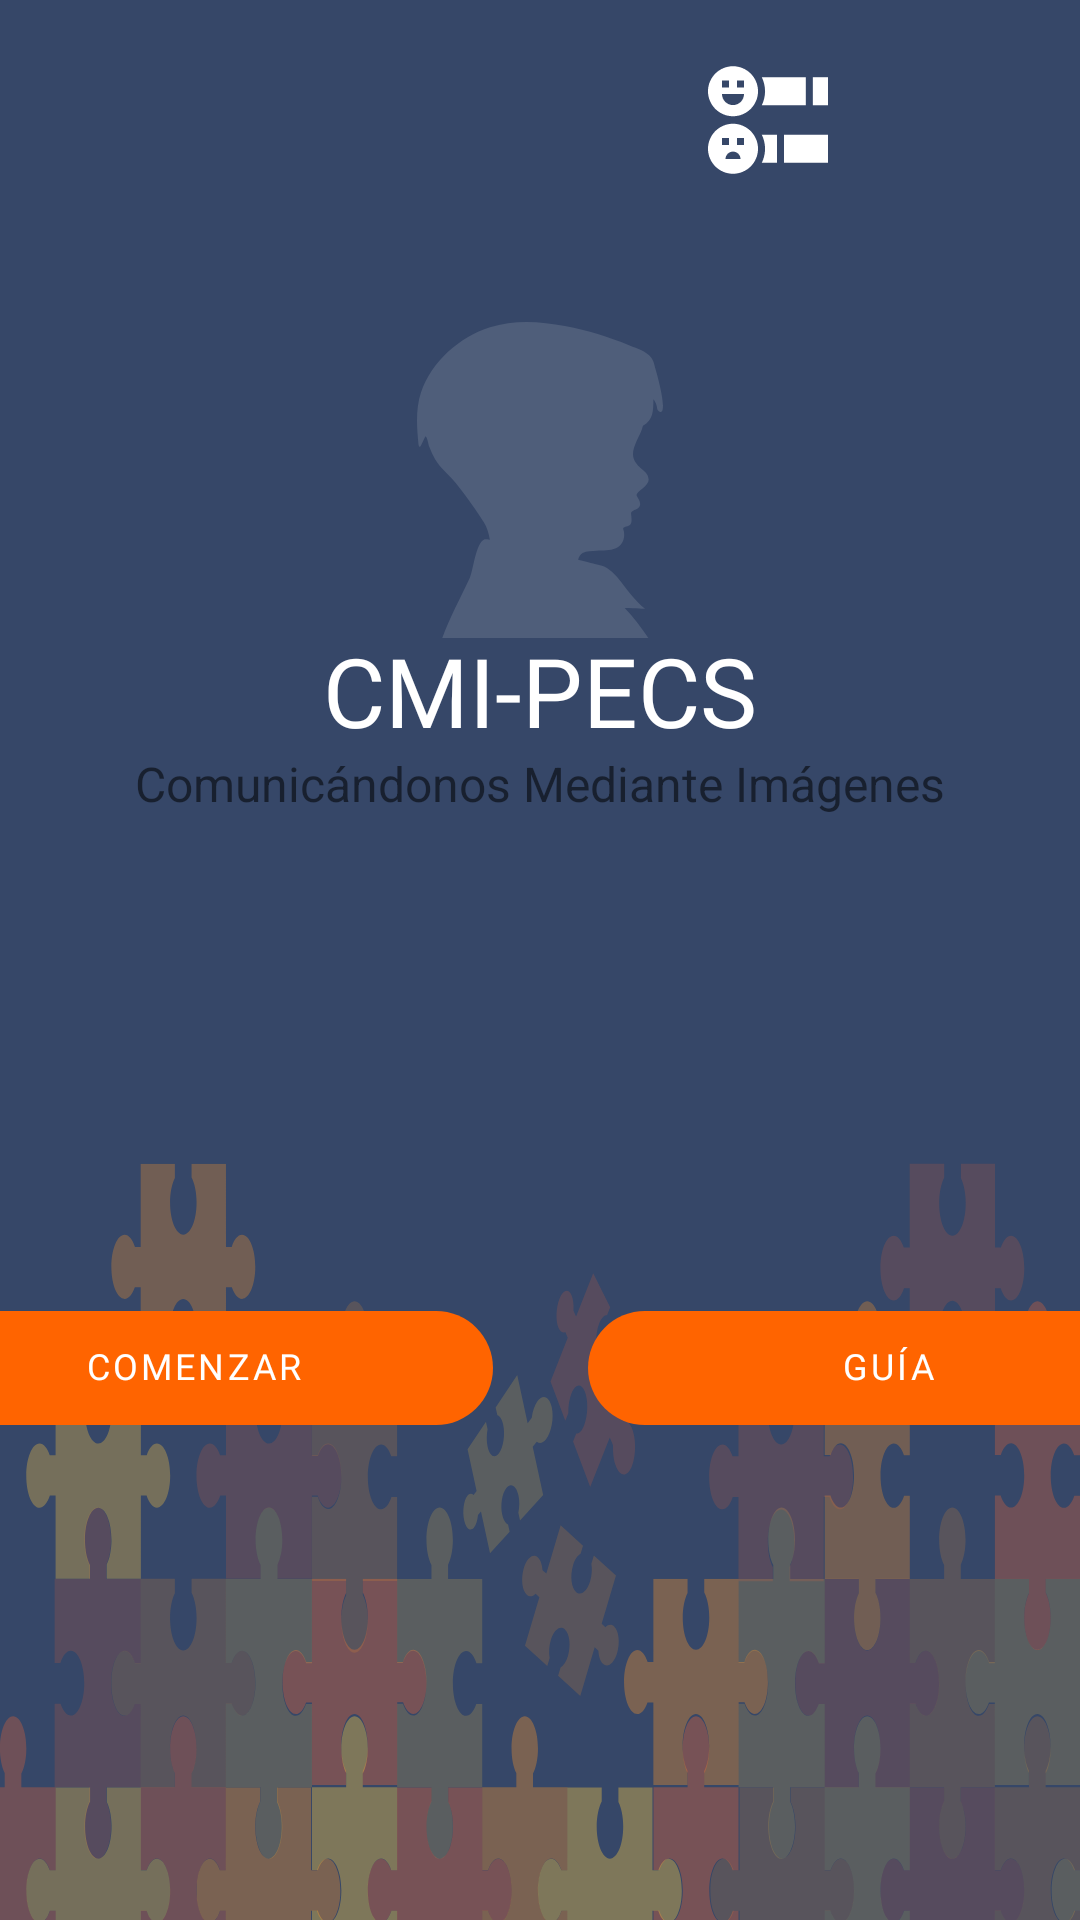

Icon click points for this 1080 × 1920 phone screenshot, format point (x, y):
survey: point (768, 120)
